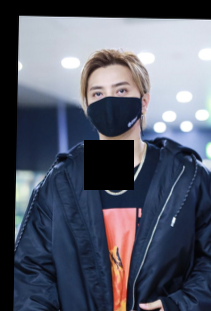with_mask: (86, 78, 143, 139)
